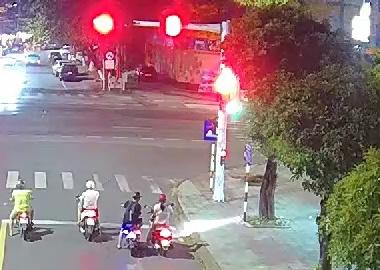red_light: (90, 12, 118, 36), (158, 16, 183, 35)
stop_line: (2, 218, 176, 230)
